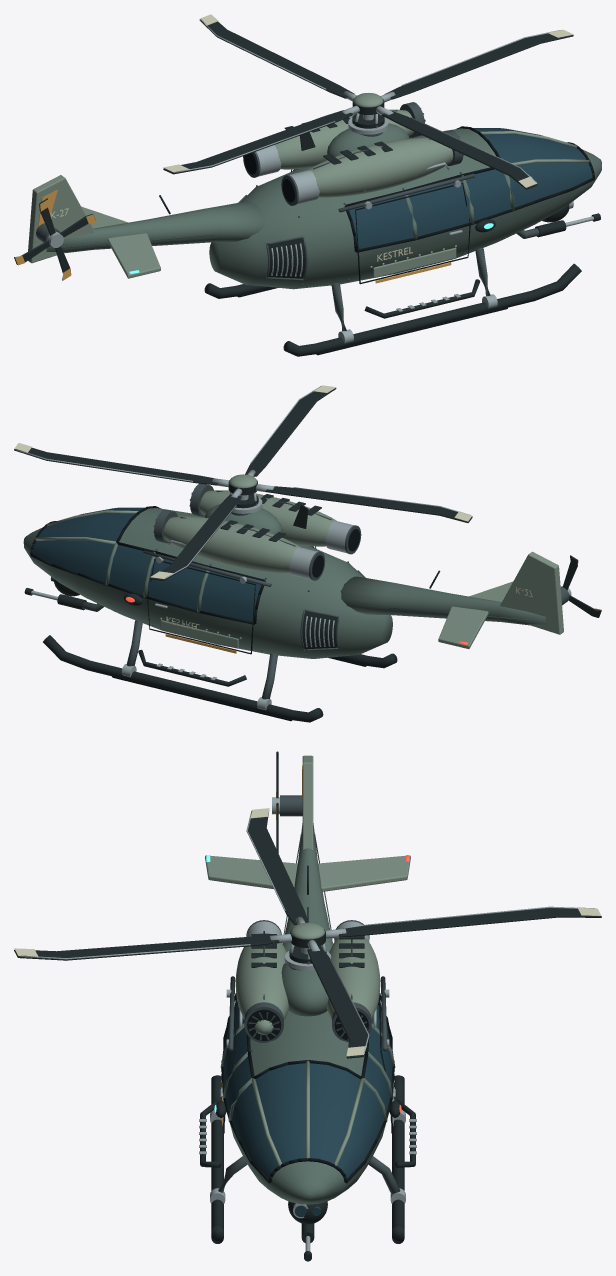
File: kestrel_heli_lod1.glb
3 views of the same model, one above another, from view 1: azimuth 30°, elevation 25°; view 2: azimuth 150°, elevation 25°; view 3: azimuth 270°, elevation 25° (orthographic). The views are drawn at different scales.
Visible parts, largest first — view 1: Body__Olive_Slate_Airframe, Body__Pale_Sage_Panels, Body__Polarized_Cockpit_Glass, Body__Graphite_Equipment, Main_Rotor__Graphite_Equipment, Body__Gunmetal_Frame, Body__Rubber_Seals, Body__Titanium_Hardware, Main_Rotor__Titanium_Hardware, Tail_Rotor__Graphite_Equipment, Main_Rotor__Warm_Stencil, Body__Warning_Amber; view 2: Body__Olive_Slate_Airframe, Body__Pale_Sage_Panels, Body__Polarized_Cockpit_Glass, Body__Graphite_Equipment, Main_Rotor__Graphite_Equipment, Body__Gunmetal_Frame, Body__Rubber_Seals, Body__Titanium_Hardware, Main_Rotor__Titanium_Hardware, Tail_Rotor__Graphite_Equipment, Main_Rotor__Warm_Stencil; view 3: Body__Polarized_Cockpit_Glass, Body__Pale_Sage_Panels, Body__Olive_Slate_Airframe, Main_Rotor__Graphite_Equipment, Body__Graphite_Equipment, Body__Gunmetal_Frame, Body__Rubber_Seals, Body__Titanium_Hardware, Main_Rotor__Titanium_Hardware, Main_Rotor__Warm_Stencil.
Part boxes in pixels (left/top/right/bottom): Body__Olive_Slate_Airframe: left=46, top=123, right=601, bottom=289; Body__Pale_Sage_Panels: left=28, top=109, right=589, bottom=278; Body__Polarized_Cockpit_Glass: left=349, top=128, right=592, bottom=249; Body__Graphite_Equipment: left=159, top=113, right=600, bottom=356; Main_Rotor__Graphite_Equipment: left=163, top=19, right=573, bottom=189; Body__Gunmetal_Frame: left=36, top=102, right=593, bottom=330; Body__Rubber_Seals: left=237, top=126, right=594, bottom=355; Body__Titanium_Hardware: left=256, top=113, right=594, bottom=343; Main_Rotor__Titanium_Hardware: left=176, top=19, right=560, bottom=182; Tail_Rotor__Graphite_Equipment: left=14, top=198, right=95, bottom=280; Main_Rotor__Warm_Stencil: left=163, top=14, right=573, bottom=187; Body__Warning_Amber: left=38, top=190, right=451, bottom=283; Body__Olive_Slate_Airframe: left=23, top=504, right=545, bottom=658; Body__Pale_Sage_Panels: left=35, top=490, right=563, bottom=648; Body__Polarized_Cockpit_Glass: left=32, top=507, right=261, bottom=621; Body__Graphite_Equipment: left=24, top=493, right=440, bottom=722; Main_Rotor__Graphite_Equipment: left=14, top=388, right=472, bottom=580; Body__Gunmetal_Frame: left=31, top=483, right=569, bottom=699; Body__Rubber_Seals: left=30, top=506, right=366, bottom=721; Body__Titanium_Hardware: left=31, top=492, right=353, bottom=710; Main_Rotor__Titanium_Hardware: left=16, top=386, right=470, bottom=578; Tail_Rotor__Graphite_Equipment: left=562, top=555, right=601, bottom=617; Main_Rotor__Warm_Stencil: left=14, top=385, right=471, bottom=578; Body__Polarized_Cockpit_Glass: left=223, top=1005, right=392, bottom=1178; Body__Pale_Sage_Panels: left=205, top=755, right=410, bottom=1165; Body__Olive_Slate_Airframe: left=220, top=823, right=395, bottom=1204; Main_Rotor__Graphite_Equipment: left=14, top=810, right=601, bottom=1058; Body__Graphite_Equipment: left=200, top=865, right=415, bottom=1261; Body__Gunmetal_Frame: left=218, top=795, right=400, bottom=1194; Body__Rubber_Seals: left=221, top=993, right=394, bottom=1183; Body__Titanium_Hardware: left=199, top=921, right=416, bottom=1251; Main_Rotor__Titanium_Hardware: left=21, top=811, right=594, bottom=1054; Main_Rotor__Warm_Stencil: left=14, top=808, right=601, bottom=1056.
Bounding box in the file's own units: 11.93 × 3.93 × 8.85.
